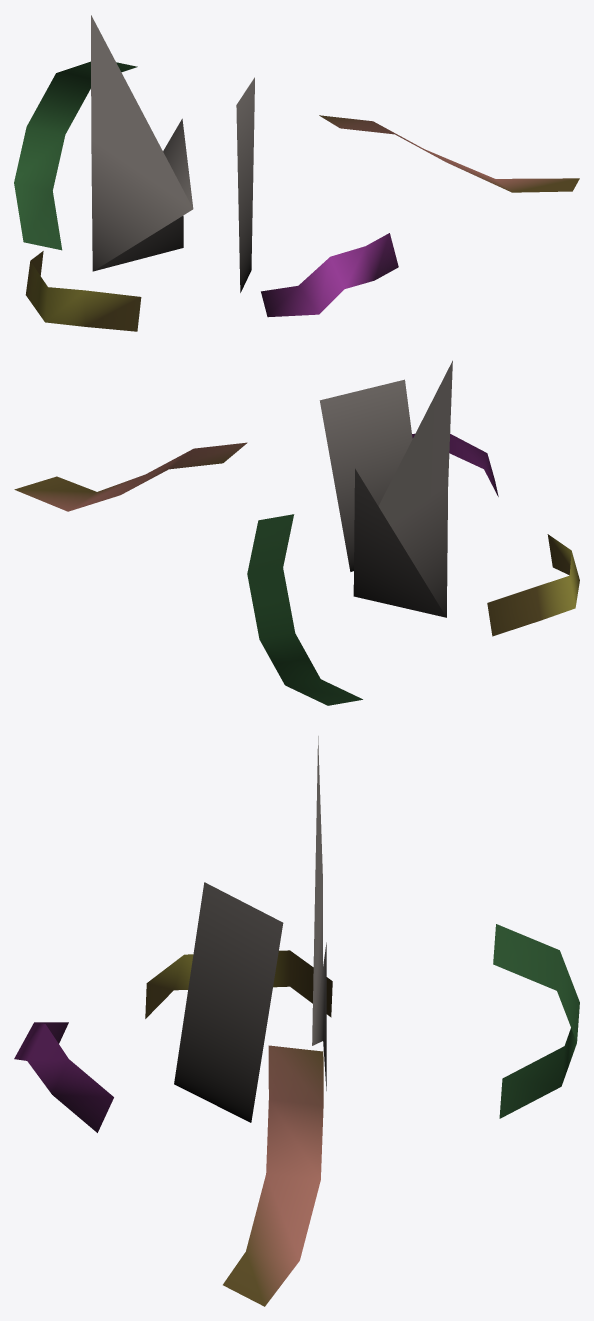
Rendered from computerParts.glb.
3 renders of one model, top to bottom at view 1: azimuth 30°, elevation 25°; view 2: azimuth 150°, elevation 25°; view 3: azimuth 270°, elevation 25°, orthographic. The views are drawn at different scales.
Parts seen in each view (by area): view 1: Plane.001; view 2: Plane.001; view 3: Plane.001.
Part boxes in pixels (bbox=[...]): Plane.001: bbox=[14, 15, 579, 331]; Plane.001: bbox=[14, 360, 579, 705]; Plane.001: bbox=[14, 736, 579, 1306].
Size of the model in its own units: 14.69 by 7.76 by 11.15.
